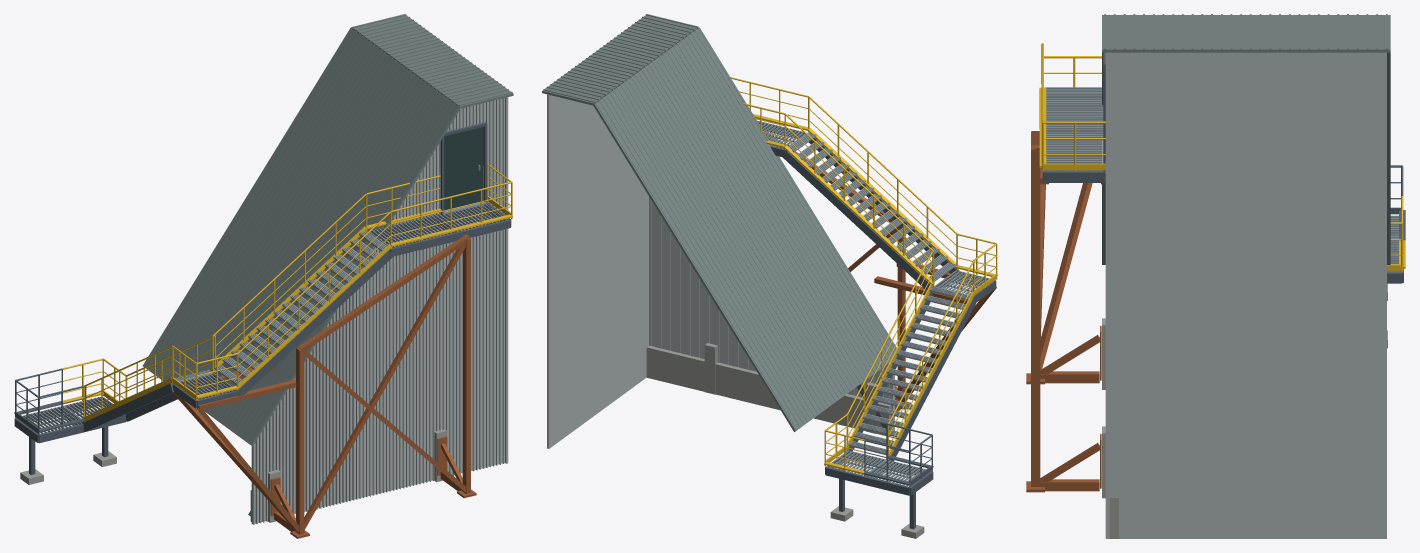
File: escada-lc02.glb
3 views of the same model, side by side, from view 1: azimuth 30°, elevation 25°; view 2: azimuth 150°, elevation 25°; view 3: azimuth 270°, elevation 25° (orthographic). The views are drawn at different scales.
Parts seen in each view (by area): view 1: existing:roof, existing:cladding, supports:rust, rails:yellow, stairs:steel, stairs:tread, landings:tread, door-leaf, existing:steel, landings:steel, references:steel, existing:tread; view 2: existing:roof, existing:cladding, rails:yellow, stairs:steel, stairs:tread, existing:concrete, existing:steel, supports:rust, landings:tread, landings:steel, references:concrete, existing:tread; view 3: existing:cladding, existing:roof, supports:rust, landings:tread, rails:yellow, landings:steel, references:concrete, existing:concrete.
Boxes of the visible parts, x1,y1,x2,y2 form: existing:roof: [142, 14, 513, 446]; existing:cladding: [251, 97, 508, 524]; supports:rust: [173, 218, 476, 538]; rails:yellow: [62, 164, 512, 422]; stairs:steel: [82, 231, 393, 431]; stairs:tread: [134, 231, 389, 410]; landings:tread: [63, 203, 507, 418]; door-leaf: [444, 127, 483, 210]; existing:steel: [14, 368, 251, 516]; landings:steel: [64, 202, 511, 431]; references:steel: [440, 122, 487, 214]; existing:tread: [17, 406, 83, 434]; existing:roof: [542, 14, 896, 431]; existing:cladding: [547, 94, 894, 448]; rails:yellow: [730, 77, 997, 474]; stairs:steel: [782, 133, 976, 461]; stairs:tread: [786, 133, 970, 454]; existing:concrete: [646, 345, 924, 538]; existing:steel: [839, 382, 933, 529]; supports:rust: [766, 131, 996, 410]; landings:tread: [758, 121, 987, 476]; landings:steel: [757, 121, 996, 484]; references:concrete: [704, 343, 877, 433]; existing:tread: [864, 460, 931, 487]; existing:cladding: [1105, 52, 1386, 538]; existing:roof: [1102, 14, 1390, 264]; supports:rust: [1026, 131, 1101, 492]; landings:tread: [1046, 93, 1401, 272]; rails:yellow: [1039, 43, 1405, 272]; landings:steel: [1042, 97, 1403, 283]; references:concrete: [1102, 318, 1105, 498]; existing:concrete: [1109, 283, 1387, 538].
Size of the model in its own units: 11.58 by 10.63 by 7.41.
